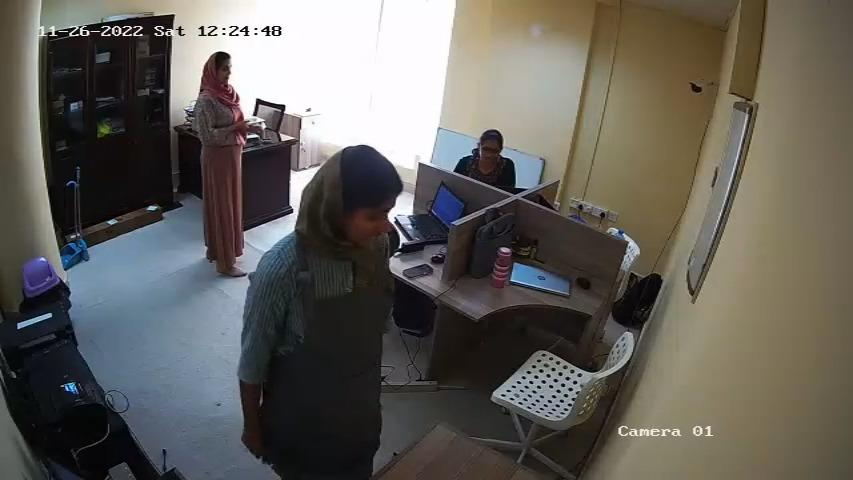apron: (270, 263, 383, 475)
